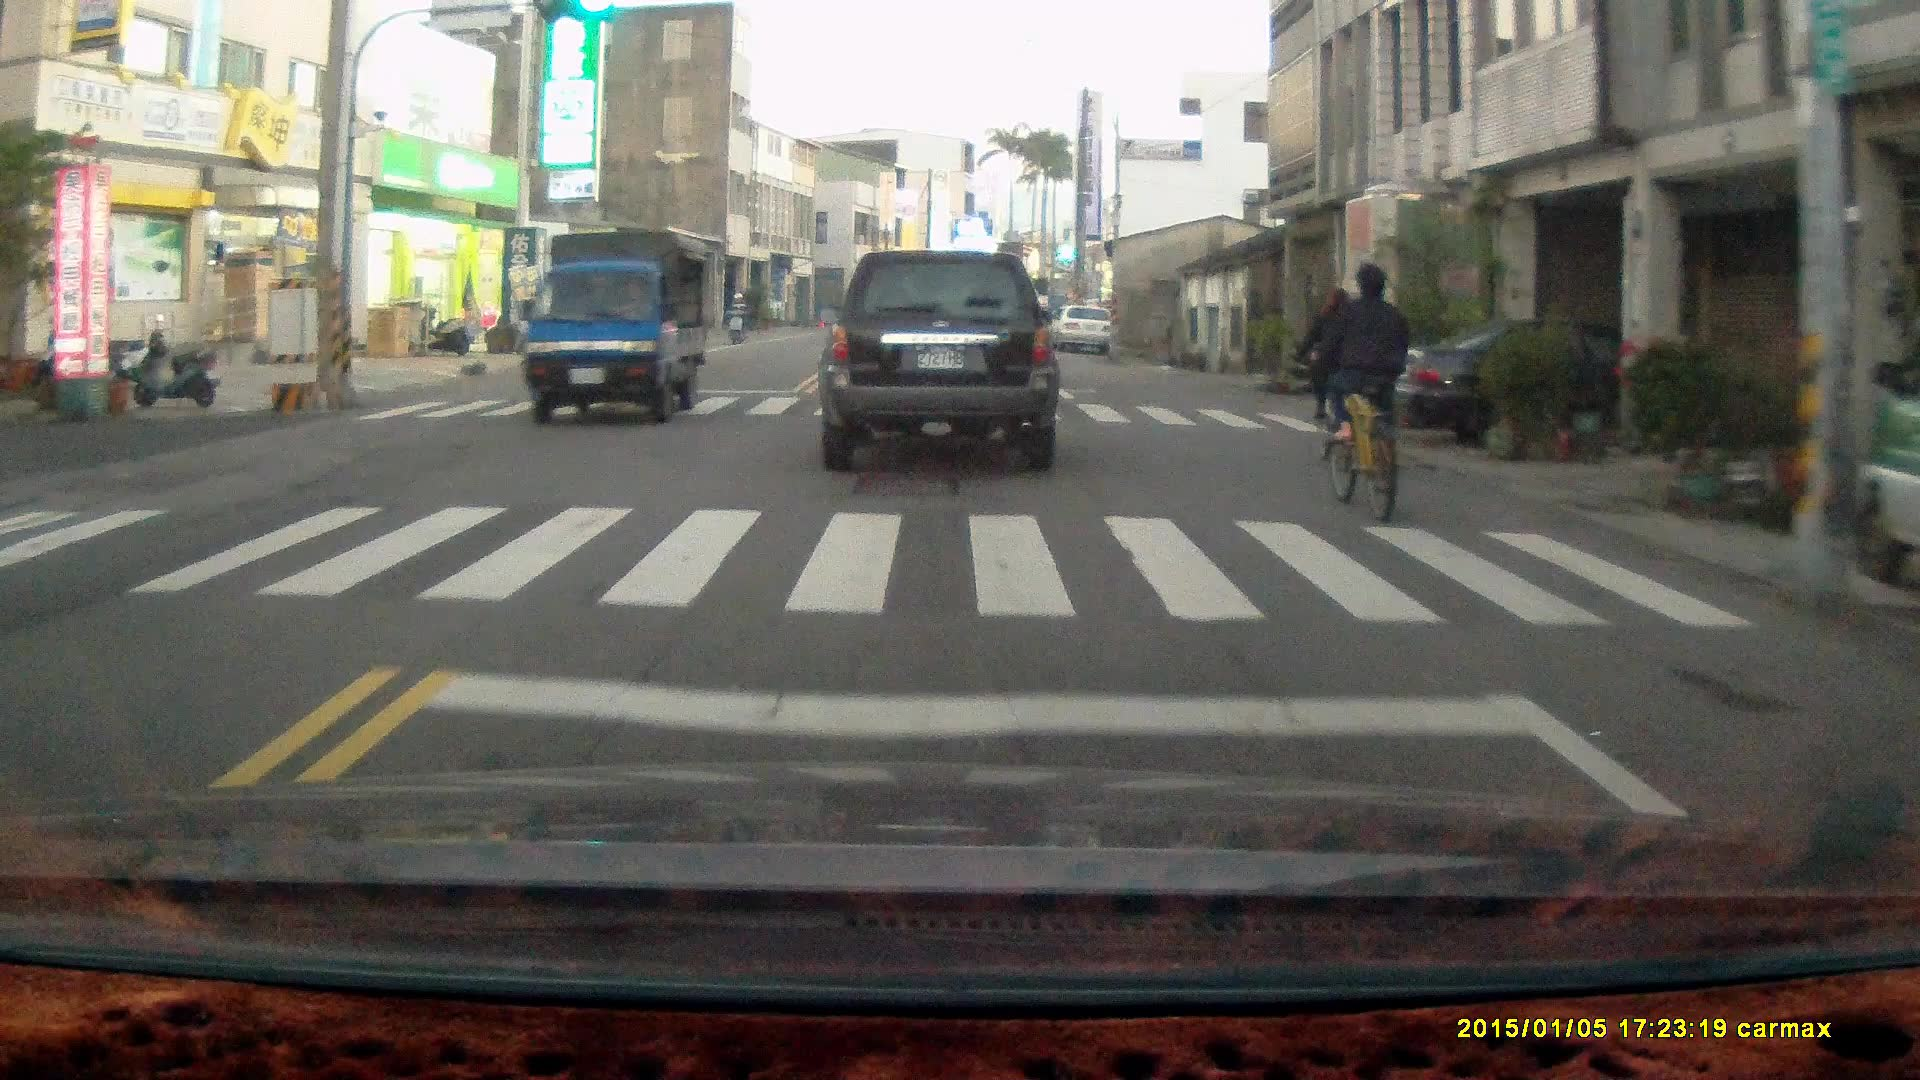rider: (1311, 260, 1413, 522), (1301, 276, 1369, 462), (724, 289, 748, 344)
vehicle: (816, 248, 1062, 471), (1392, 319, 1767, 460), (521, 227, 715, 424), (1848, 277, 1920, 587), (1056, 304, 1118, 354)
